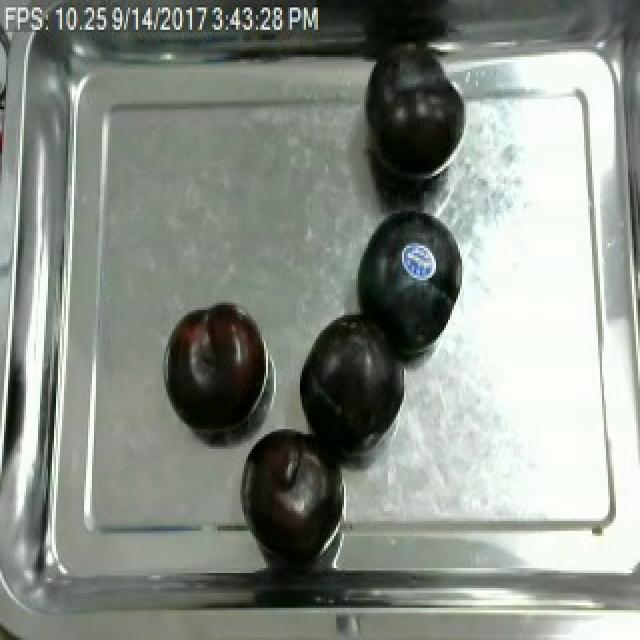Fruit: (348, 204, 472, 362), (294, 305, 410, 459), (358, 42, 472, 186), (162, 298, 268, 437), (240, 424, 338, 553)
